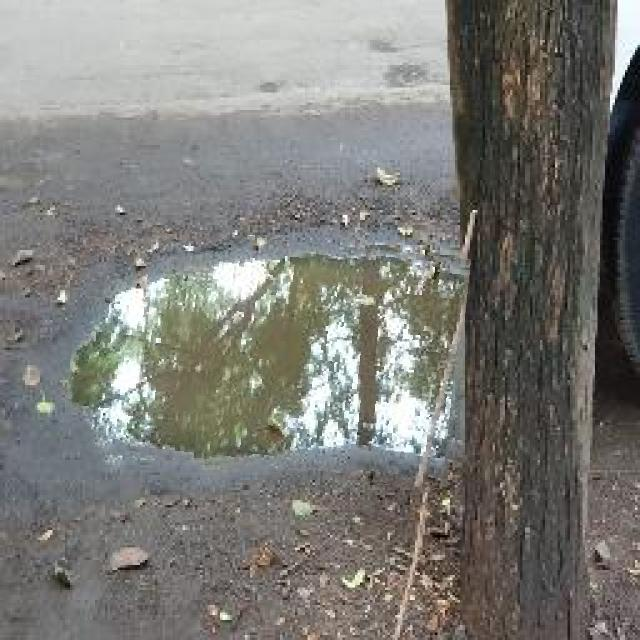puddle: (67, 230, 467, 482)
